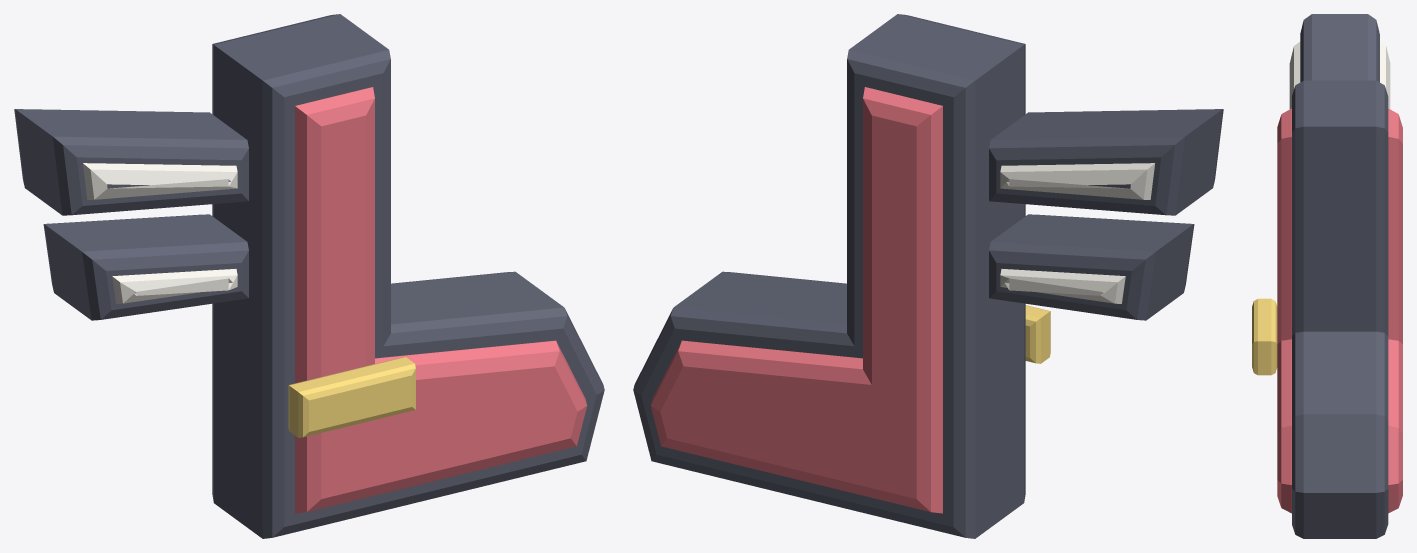
The model's file is game-ui-icon-library-winged-boot-169d79f6__18996.glb.
3 views of the same model, side by side, from view 1: azimuth 30°, elevation 25°; view 2: azimuth 150°, elevation 25°; view 3: azimuth 270°, elevation 25° (orthographic). The views are drawn at different scales.
Parts seen in each view (by area): view 1: winged-boot; view 2: winged-boot; view 3: winged-boot.
Part boxes in pixels (left/top/right/bottom): winged-boot: left=14, top=14, right=604, bottom=538; winged-boot: left=633, top=14, right=1223, bottom=538; winged-boot: left=1252, top=14, right=1402, bottom=538.
Size of the model in its own units: 0.98 by 0.7875 by 0.315.
